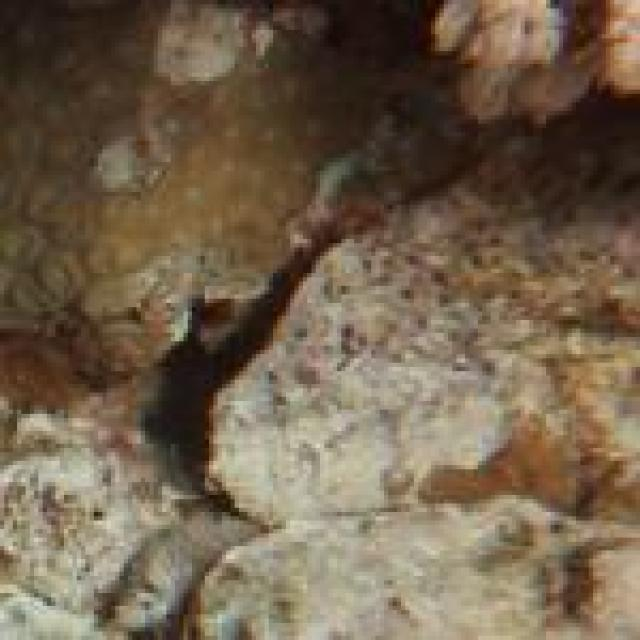Healthy Coral: (0, 0, 321, 333)
